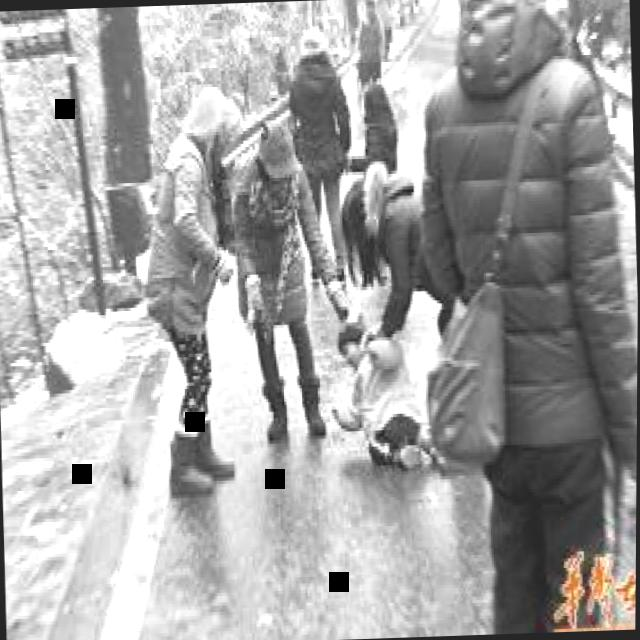Fall-Detected: (311, 289, 465, 477)
